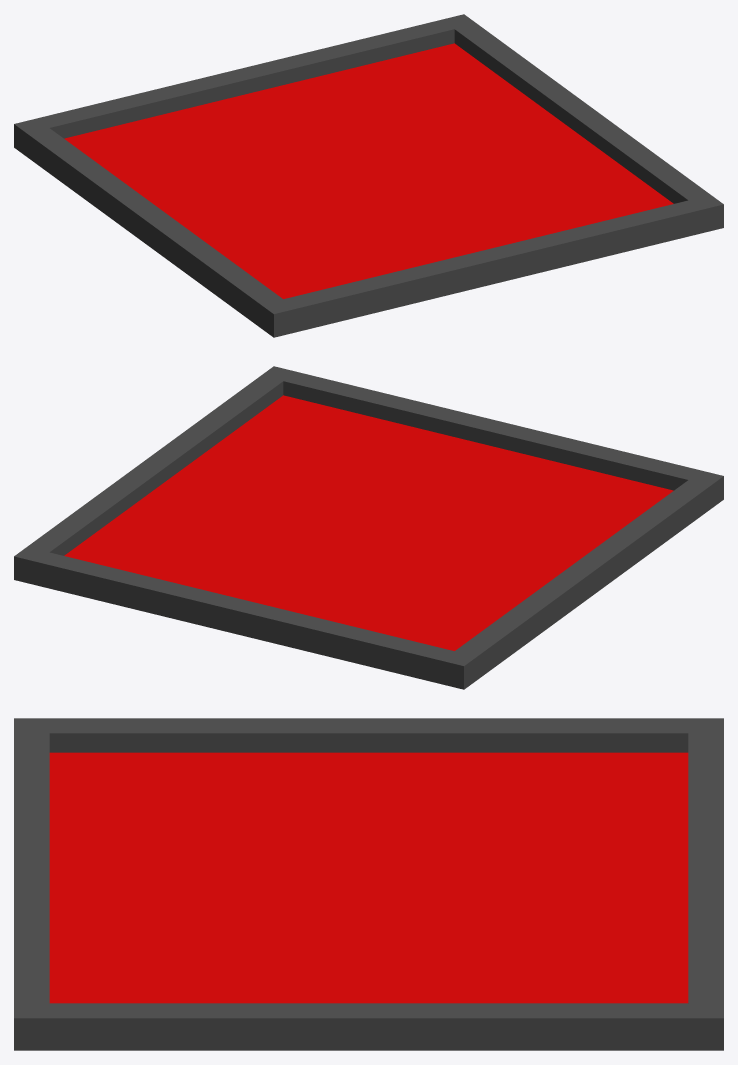
File: Refinary01.fbx
The picture shows the model from 3 angles, top to bottom: view 1: azimuth 30°, elevation 25°; view 2: azimuth 150°, elevation 25°; view 3: azimuth 270°, elevation 25°; orthographic projection. The views are drawn at different scales.
Parts seen in each view (by area): view 1: Refinary01; view 2: Refinary01; view 3: Refinary01.
Part boxes in pixels (left/top/right/bottom): Refinary01: left=14, top=14, right=723, bottom=337; Refinary01: left=14, top=366, right=723, bottom=689; Refinary01: left=14, top=718, right=723, bottom=1050.
Size of the model in its own units: 100 by 5 by 100.
